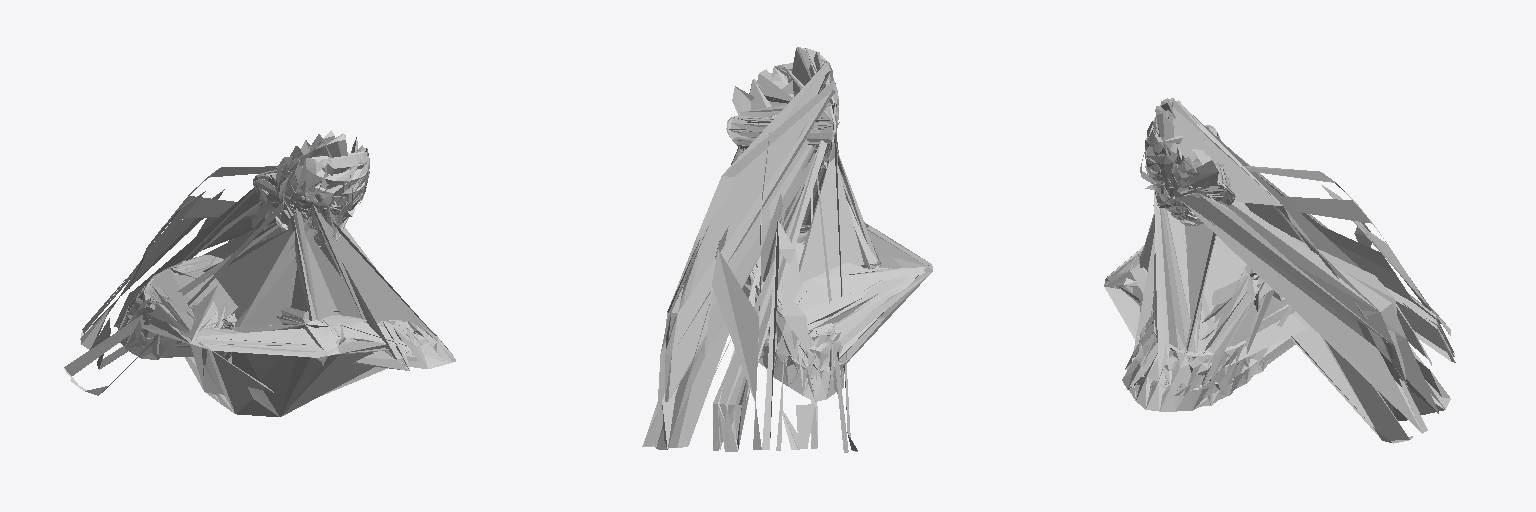
File: morrigan.obj
3 renders of one model, left to right at view 1: azimuth 30°, elevation 25°; view 2: azimuth 150°, elevation 25°; view 3: azimuth 270°, elevation 25°, orthographic.
Parts seen in each view (by area): view 1: Model001_24_arms_1.6_0_0, Model001_24_armdss_1.6_0_0, Model001_8_feathers_0.1_0_0, Model001_6_hair_0.1_0_0, Model001_24_headwings_0.6_0_0; view 2: Model001_24_arms_1.6_0_0, Model001_24_armdss_1.6_0_0, Model001_8_feathers_0.1_0_0, Model001_6_hair_0.1_0_0; view 3: Model001_24_arms_1.6_0_0, Model001_24_armdss_1.6_0_0, Model001_8_feathers_0.1_0_0, Model001_6_hair_0.1_0_0.
Part boxes in pixels (x1,y1,x2,y2): Model001_24_arms_1.6_0_0: (64, 130, 455, 416); Model001_24_armdss_1.6_0_0: (171, 151, 452, 369); Model001_8_feathers_0.1_0_0: (117, 154, 453, 416); Model001_6_hair_0.1_0_0: (258, 146, 367, 243); Model001_24_headwings_0.6_0_0: (253, 150, 367, 222); Model001_24_arms_1.6_0_0: (642, 47, 932, 452); Model001_24_armdss_1.6_0_0: (728, 64, 879, 368); Model001_8_feathers_0.1_0_0: (726, 68, 932, 401); Model001_6_hair_0.1_0_0: (728, 66, 834, 161); Model001_24_arms_1.6_0_0: (1104, 98, 1455, 443); Model001_24_armdss_1.6_0_0: (1125, 118, 1259, 387); Model001_8_feathers_0.1_0_0: (1104, 121, 1295, 410); Model001_6_hair_0.1_0_0: (1146, 118, 1234, 220).
Size of the model in its own units: 0.4198 by 0.4753 by 0.4661.